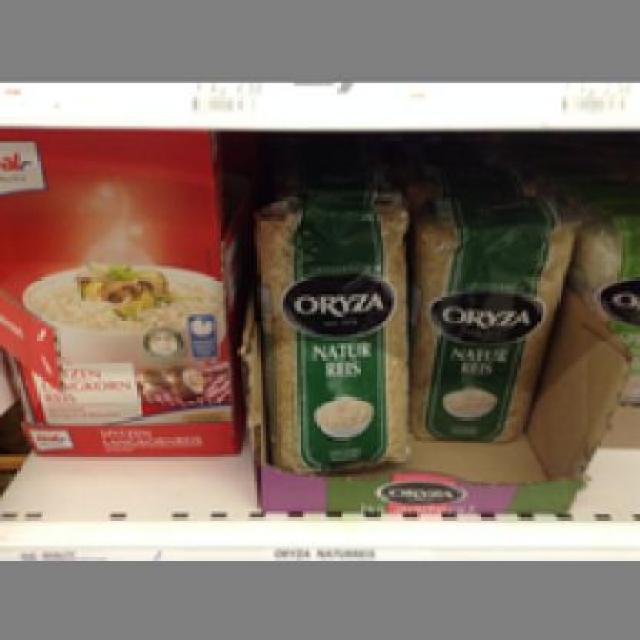Rice: (0, 123, 237, 420), (248, 194, 408, 472), (402, 194, 572, 437)
